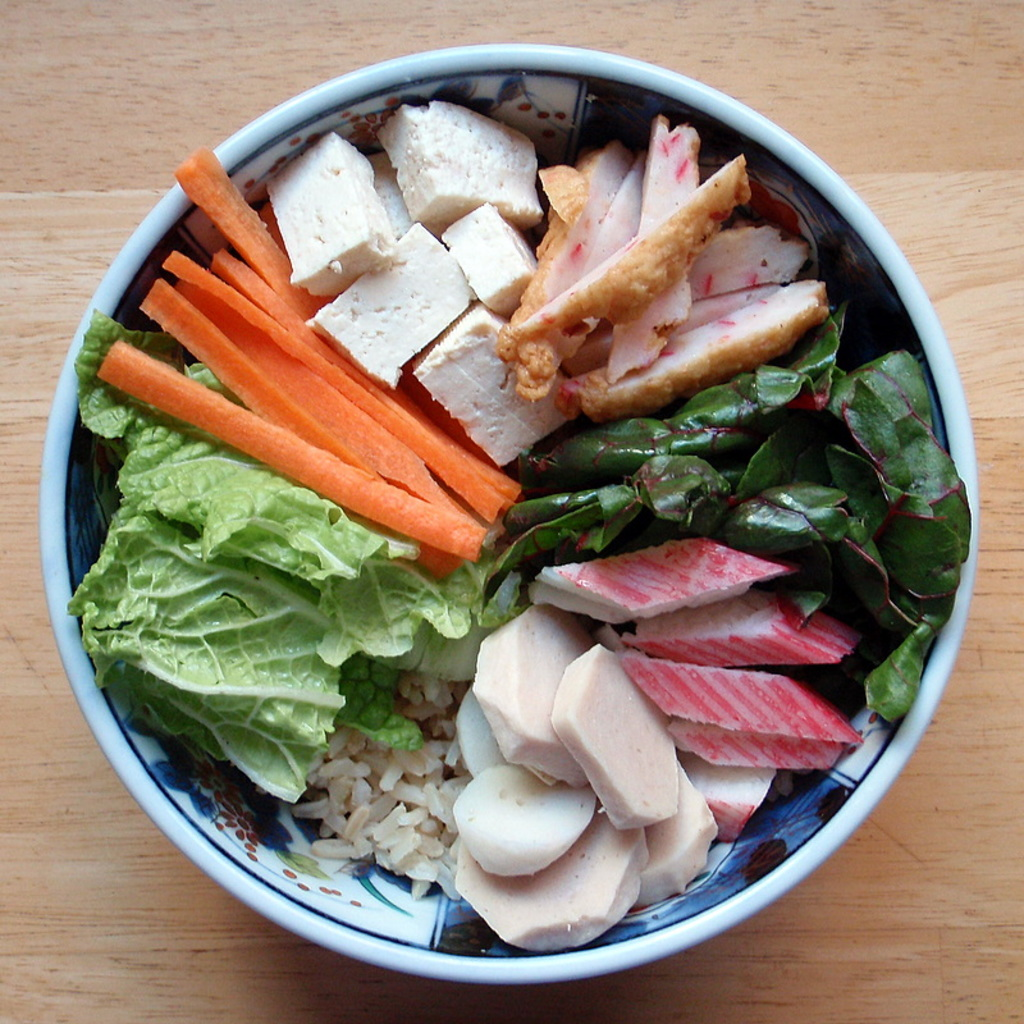salad: (70, 68, 980, 966)
